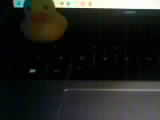duck: (25, 8, 74, 39)
